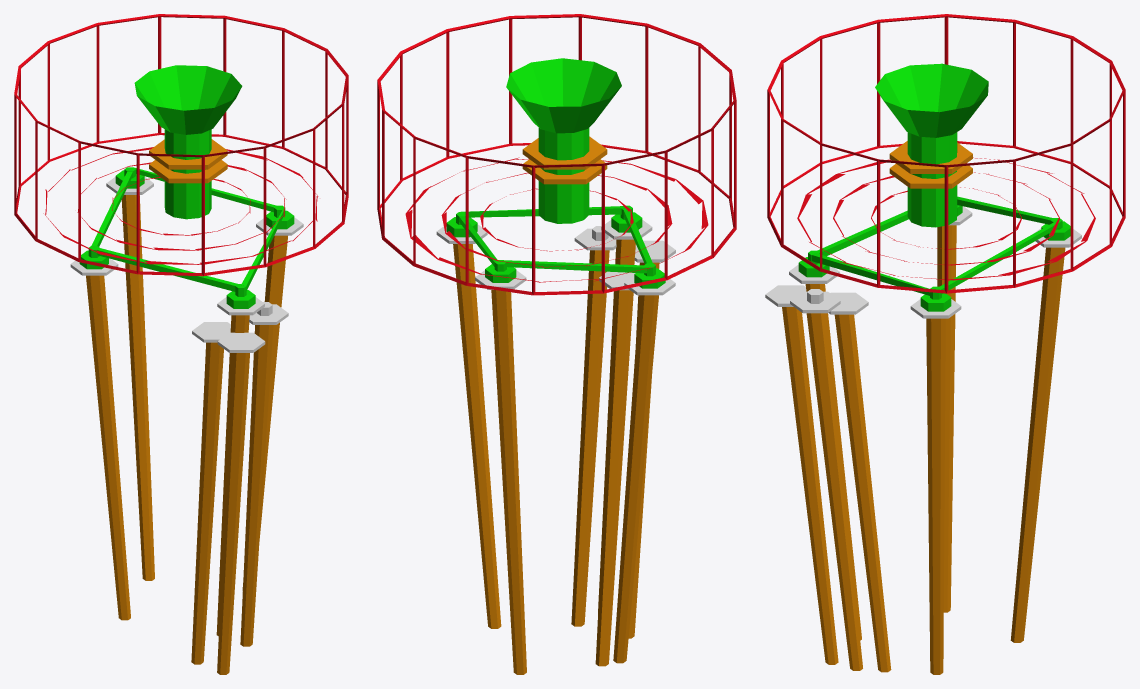
The model's file is Floor 20.fbx.
3 views of the same model, side by side, from view 1: azimuth 30°, elevation 25°; view 2: azimuth 150°, elevation 25°; view 3: azimuth 270°, elevation 25° (orthographic). The views are drawn at different scales.
Visible parts, largest first — view 1: RisingPlatforms, Cube.002, Cube.001; view 2: RisingPlatforms, Cube.002, Cube.001; view 3: RisingPlatforms, Cube.002, Cube.001.
Boxes of the visible parts, <box> form: RisingPlatforms: <box>70,167,303,674</box>; Cube.002: <box>14,14,348,276</box>; Cube.001: <box>134,65,242,219</box>; RisingPlatforms: <box>436,205,675,674</box>; Cube.002: <box>377,14,736,295</box>; Cube.001: <box>506,58,621,223</box>; RisingPlatforms: <box>765,196,1081,674</box>; Cube.002: <box>767,14,1125,293</box>; Cube.001: <box>875,63,988,227</box>.
Size of the model in its own units: 11325 by 20542 by 11391.
